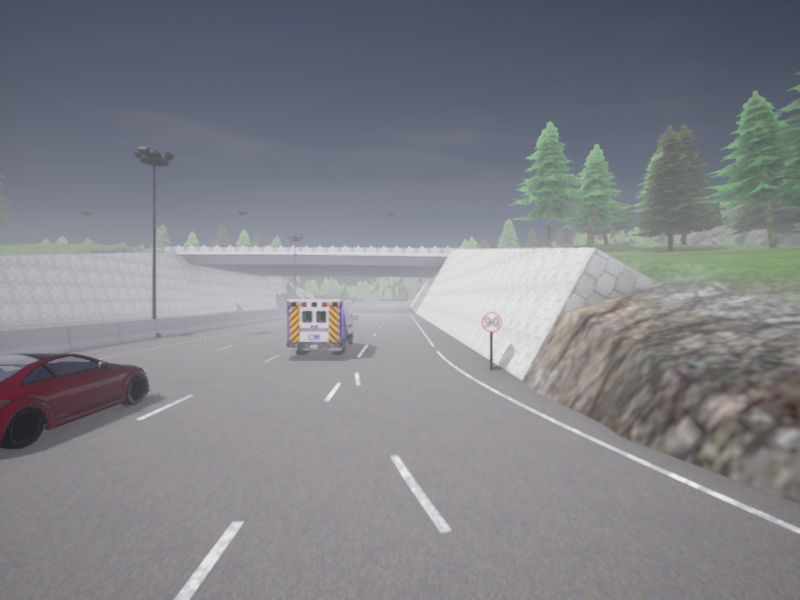vehicle: (0, 352, 149, 449), (286, 299, 358, 353)
